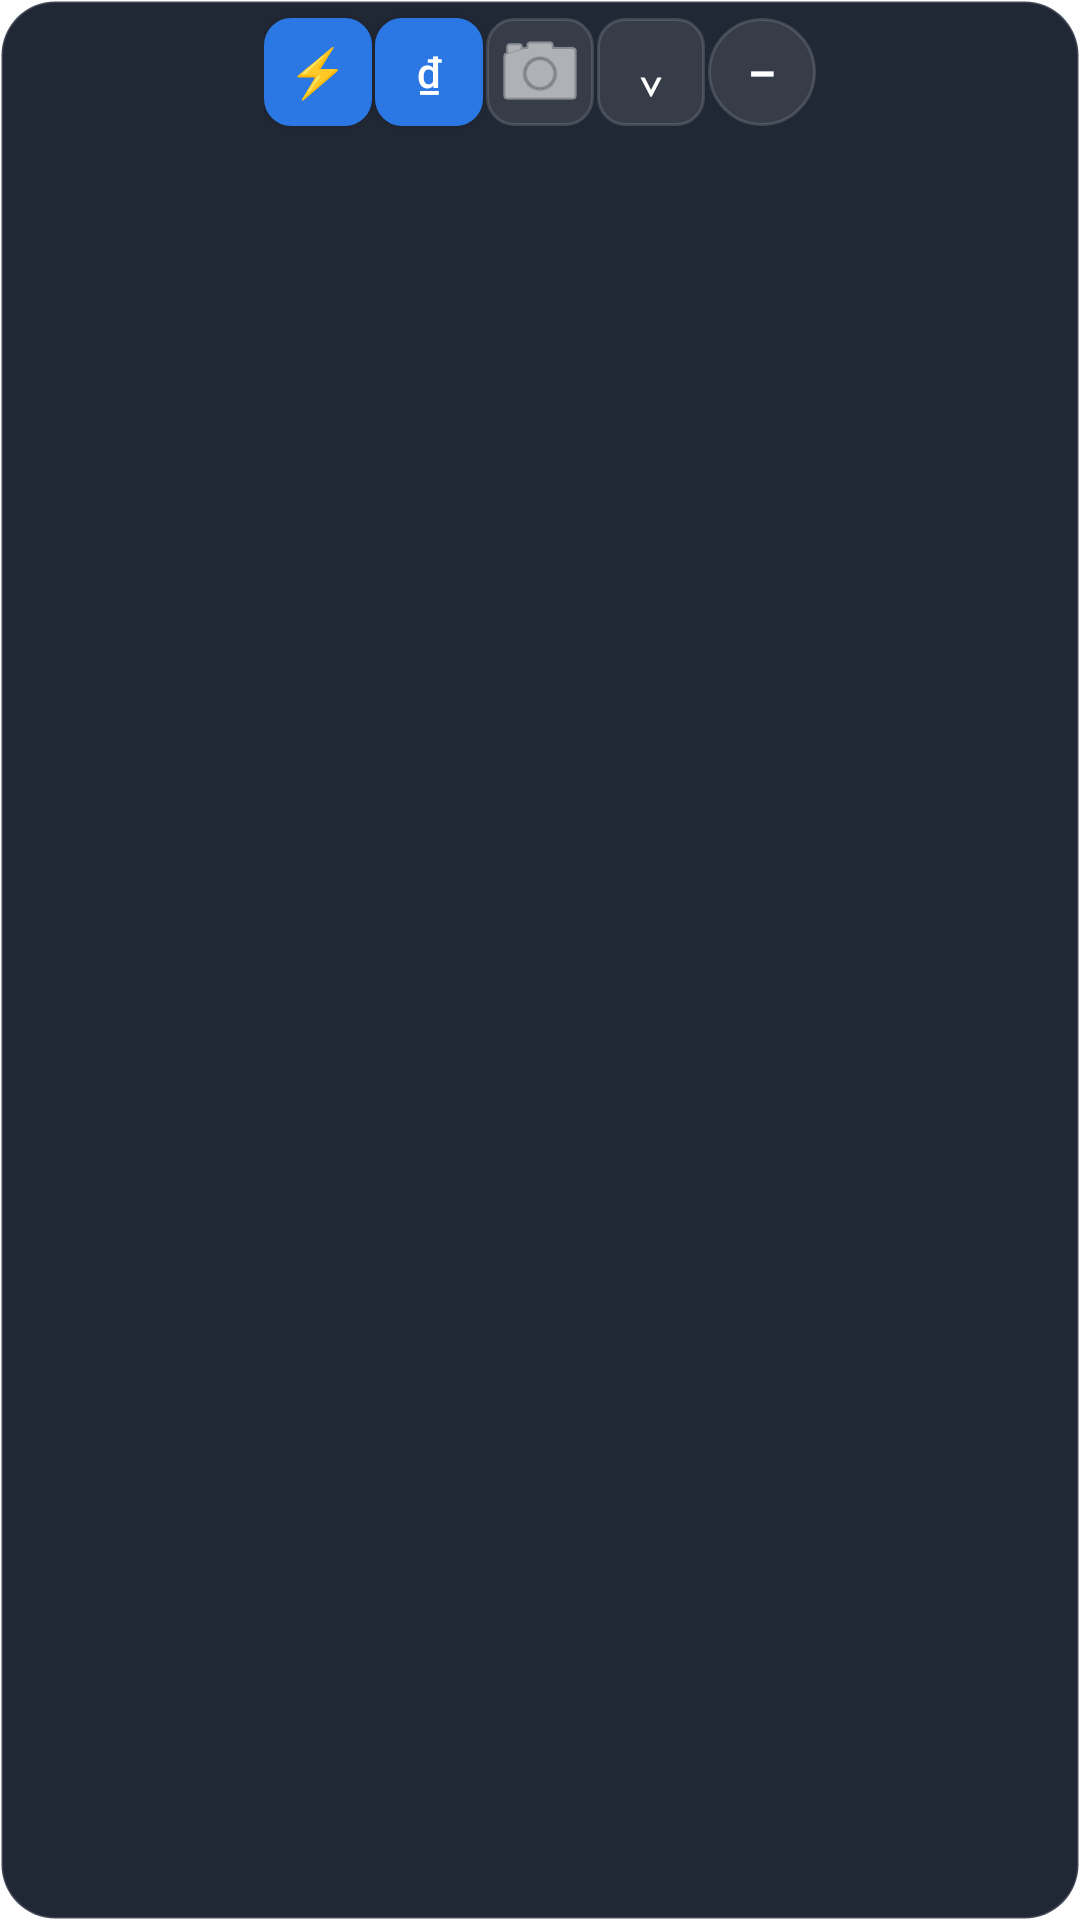

Screen size 1080px×1920px. Icon name, then its box in pixels as bbox(x1, y1, x2, y2):
Chụp ảnh TimeMark: bbox(486, 18, 594, 126)
